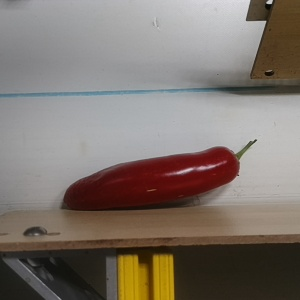Cut Point: (216, 142, 248, 179)
